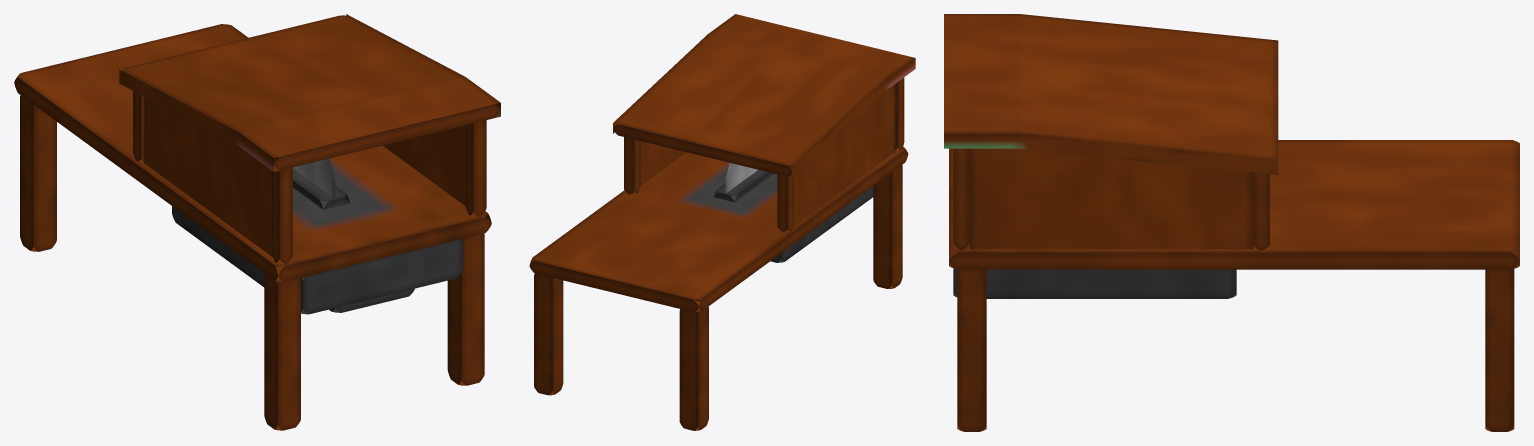
File: sawmill.fbx
3 views of the same model, side by side, from view 1: azimuth 30°, elevation 25°; view 2: azimuth 150°, elevation 25°; view 3: azimuth 270°, elevation 25° (orthographic). The views are drawn at different scales.
Parts seen in each view (by area): view 1: cube, cube_3, cube_2, cube_6, cube_12, cube_14, cube_4, cube_1, cube_8, cube_11, cube_5, cylinder (+2 smaller); view 2: cube, cube_3, cube_2, cube_14, cube_13, cube_12, cube_6, cube_1, cube_10, cube_9, cube_5, cube_11 (+1 smaller); view 3: cube, cube_3, cube_1, cube_6, cube_13, cube_4, cube_8, cube_9.
Boxes of the visible parts, left/top/right/bottom form: cube: left=119, top=14, right=500, bottom=171; cube_3: left=14, top=24, right=491, bottom=281; cube_2: left=144, top=97, right=272, bottom=257; cube_6: left=172, top=206, right=463, bottom=314; cube_12: left=264, top=265, right=300, bottom=430; cube_14: left=20, top=95, right=56, bottom=251; cube_4: left=447, top=233, right=484, bottom=385; cube_1: left=383, top=125, right=465, bottom=205; cube_8: left=465, top=120, right=486, bottom=216; cube_11: left=272, top=156, right=292, bottom=263; cube_5: left=293, top=168, right=349, bottom=209; cylinder: left=293, top=158, right=335, bottom=201; cube: left=613, top=14, right=915, bottom=177; cube_3: left=529, top=146, right=908, bottom=312; cube_2: left=789, top=84, right=895, bottom=225; cube_14: left=679, top=299, right=708, bottom=430; cube_13: left=534, top=273, right=563, bottom=395; cube_12: left=873, top=165, right=902, bottom=288; cube_6: left=770, top=186, right=873, bottom=262; cube_1: left=640, top=141, right=686, bottom=185; cube_10: left=777, top=165, right=793, bottom=231; cube_9: left=624, top=137, right=640, bottom=194; cube_5: left=714, top=170, right=773, bottom=202; cube_11: left=895, top=77, right=904, bottom=150; cube: left=944, top=14, right=1278, bottom=175; cube_3: left=949, top=140, right=1519, bottom=269; cube_1: left=970, top=148, right=1253, bottom=248; cube_6: left=953, top=268, right=1236, bottom=298; cube_13: left=1485, top=269, right=1514, bottom=431; cube_4: left=957, top=269, right=986, bottom=431; cube_8: left=953, top=148, right=969, bottom=250; cube_9: left=1253, top=172, right=1269, bottom=250.
Size of the model in its own units: 106 by 126 by 216.
